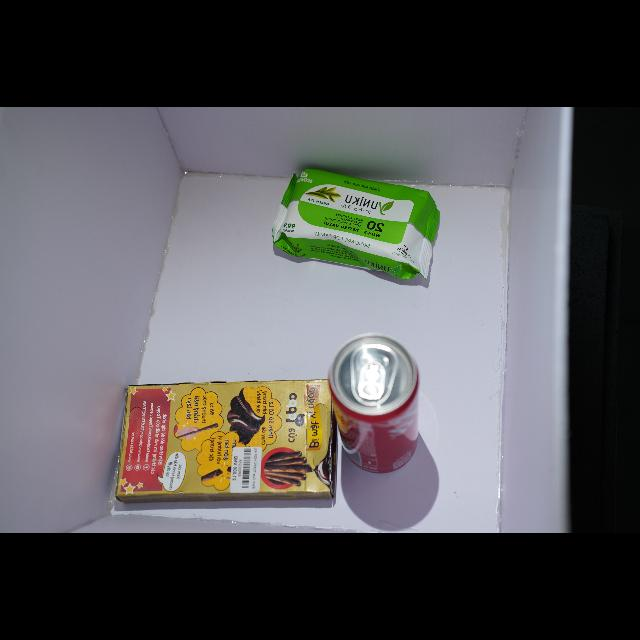banh_toppo_socola: (116, 380, 335, 503)
coca_cola: (329, 334, 418, 474)
khan_giay: (272, 169, 440, 280)
